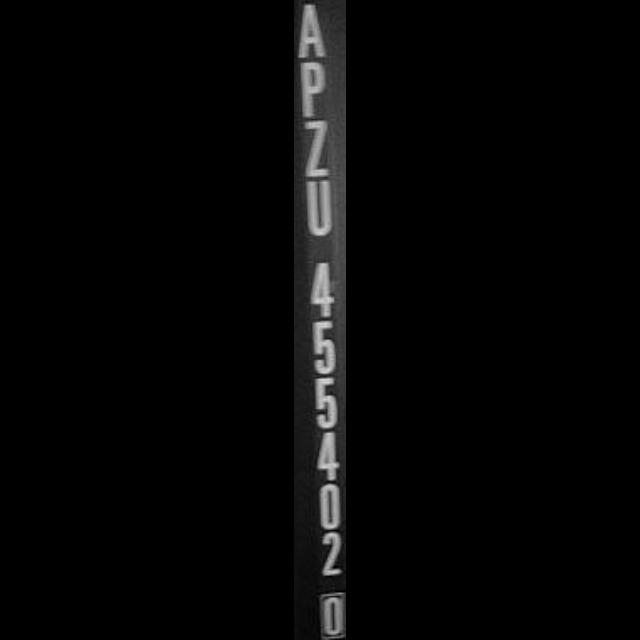0: (314, 584, 346, 640), (309, 480, 346, 528)
2: (309, 526, 346, 582)
4: (294, 255, 346, 319), (302, 424, 346, 480)
5: (294, 316, 346, 378), (299, 373, 346, 429)
a: (294, 0, 334, 54)
p: (294, 61, 338, 123)
u: (294, 180, 344, 242)
z: (294, 116, 342, 180)
